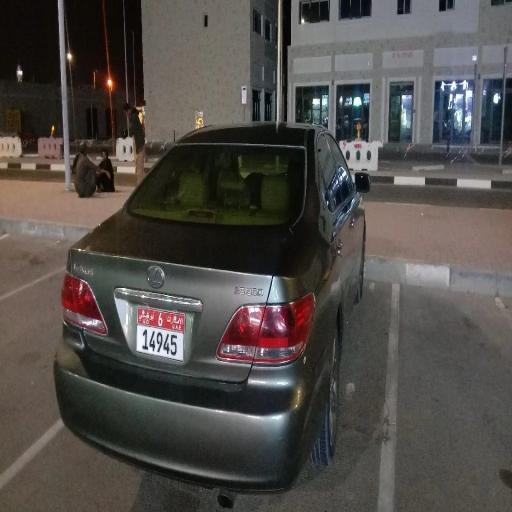license-plates: (136, 306, 185, 362)
